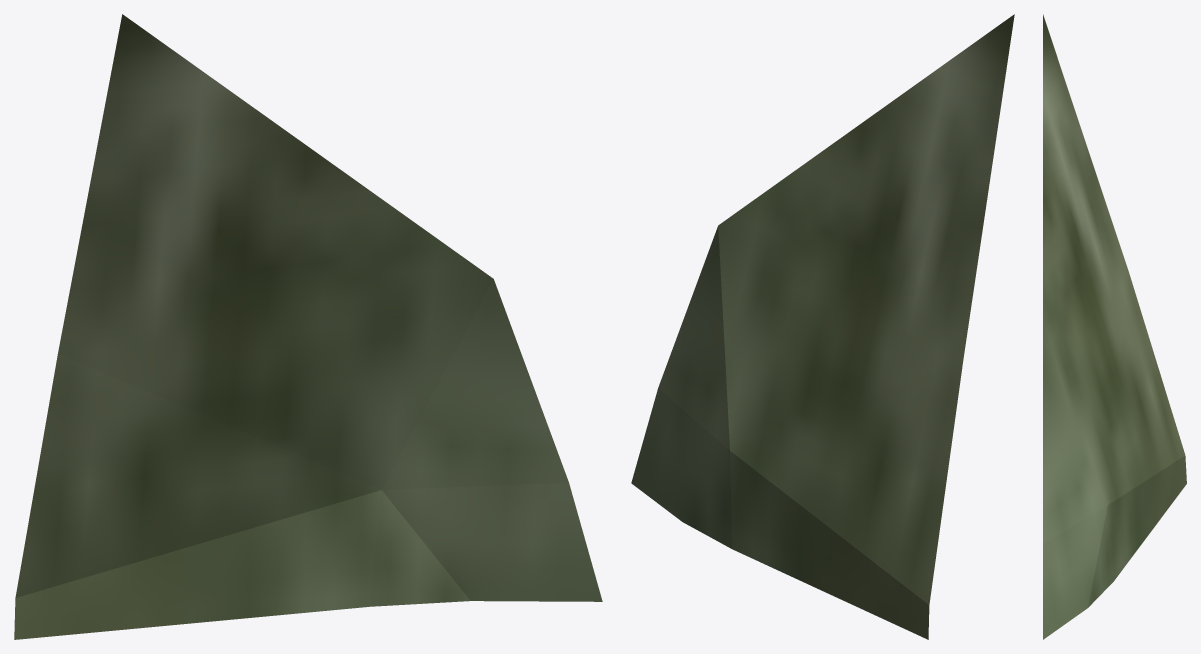
The picture shows the model from 3 angles, left to right: view 1: azimuth 30°, elevation 25°; view 2: azimuth 150°, elevation 25°; view 3: azimuth 270°, elevation 25°; orthographic projection. The views are drawn at different scales.
Size of the model in its own units: 0.2185 by 0.3064 by 0.0851.
Materials: 1 (1 with a texture image).
